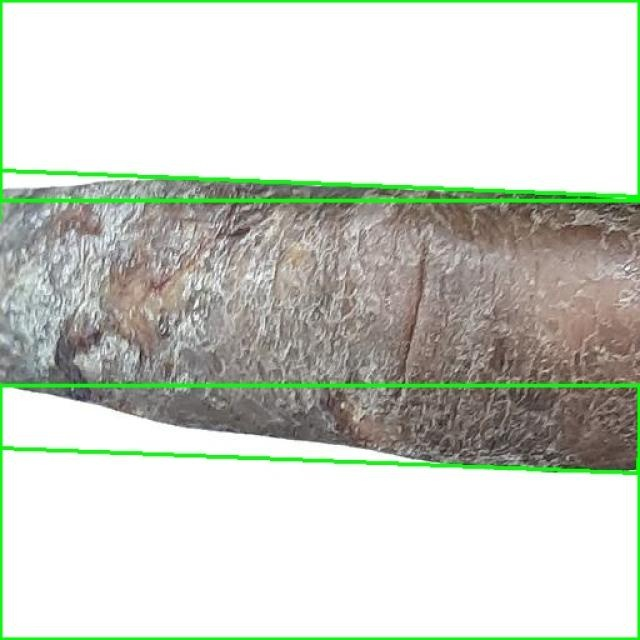Eczema: (0, 171, 640, 473), (0, 385, 639, 639), (0, 0, 639, 200)
